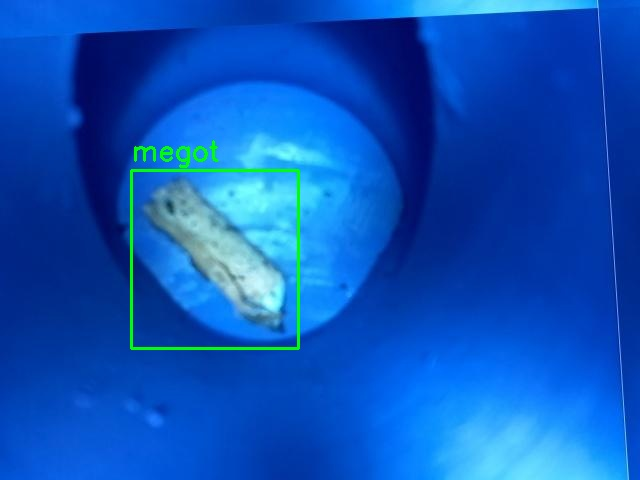megot: (131, 170, 298, 348)
